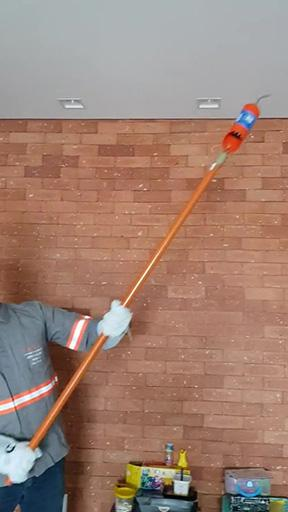Detector_Tensao_Contato: (221, 90, 274, 156)
Vara_Manobra: (5, 153, 225, 486)
